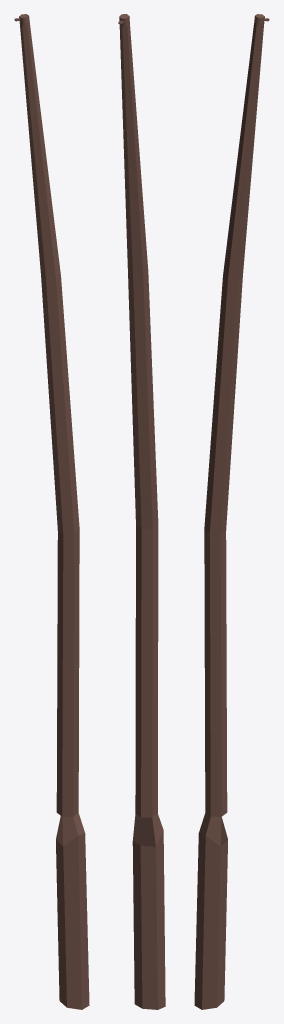
The model's file is MyRod.fbx.
3 renders of one model, left to right at view 1: azimuth 90°, elevation 25°; view 2: azimuth 150°, elevation 25°; view 3: azimuth 270°, elevation 25°, orthographic. The views are drawn at different scales.
Visible parts, largest first — view 1: rod; view 2: rod; view 3: rod.
Part boxes in pixels (x1,y1,x2,y2): rod: (19,14,89,1009); rod: (119,14,165,1009); rod: (194,14,264,1009).
Bounding box in the file's own units: 3.85 × 160 × 10.97.
